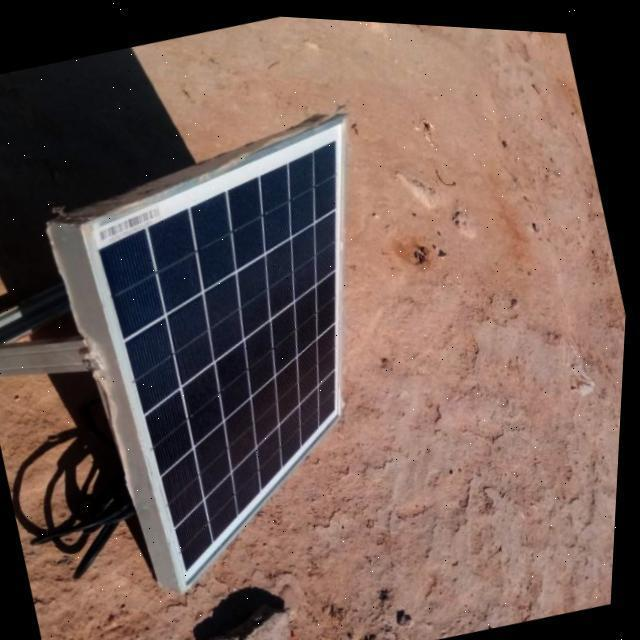Normal Solar Panel: (52, 100, 450, 602)
